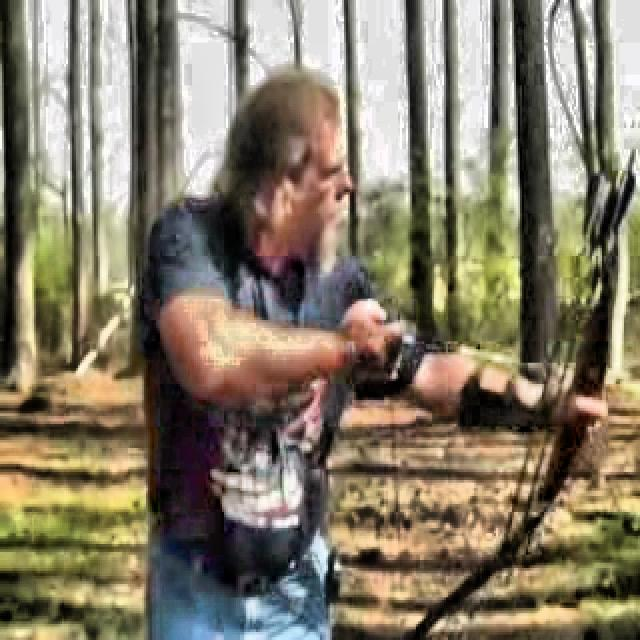I: (130, 70, 618, 583)
